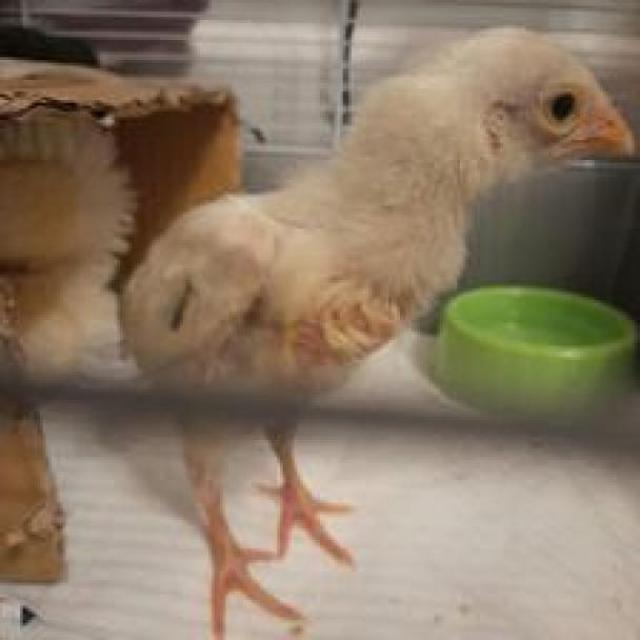Chicken: (140, 30, 640, 640)
